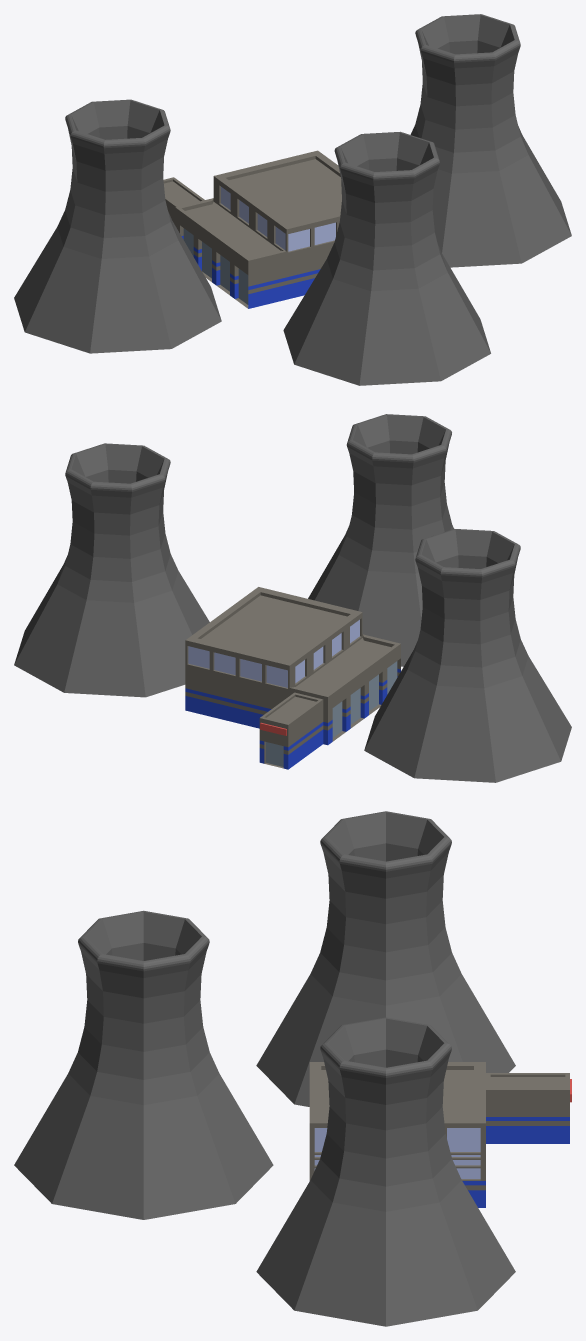
3 views of the same model, one above another, from view 1: azimuth 30°, elevation 25°; view 2: azimuth 150°, elevation 25°; view 3: azimuth 270°, elevation 25° (orthographic). The views are drawn at different scales.
Parts seen in each view (by area): view 1: Circle.001, Circle, Circle.002, Cube; view 2: Circle.001, Circle.002, Cube, Circle; view 3: Circle.002, Circle, Circle.001, Cube.
Boxes of the visible parts, x1=… form: Circle.001: x1=14, y1=99, x2=221, y2=353; Circle: x1=283, y1=131, x2=490, y2=385; Circle.002: x1=410, y1=14, x2=571, y2=267; Cube: x1=163, y1=150, x2=341, y2=308; Circle.001: x1=364, y1=529, x2=571, y2=782; Circle.002: x1=14, y1=443, x2=209, y2=697; Cube: x1=185, y1=587, x2=400, y2=769; Circle: x1=308, y1=414, x2=453, y2=666; Circle.002: x1=256, y1=1017, x2=515, y2=1326; Circle: x1=14, y1=910, x2=273, y2=1219; Circle.001: x1=256, y1=811, x2=515, y2=1106; Cube: x1=309, y1=1062, x2=571, y2=1207.
Bounding box in the file's own units: 2666 × 901 × 1990.
